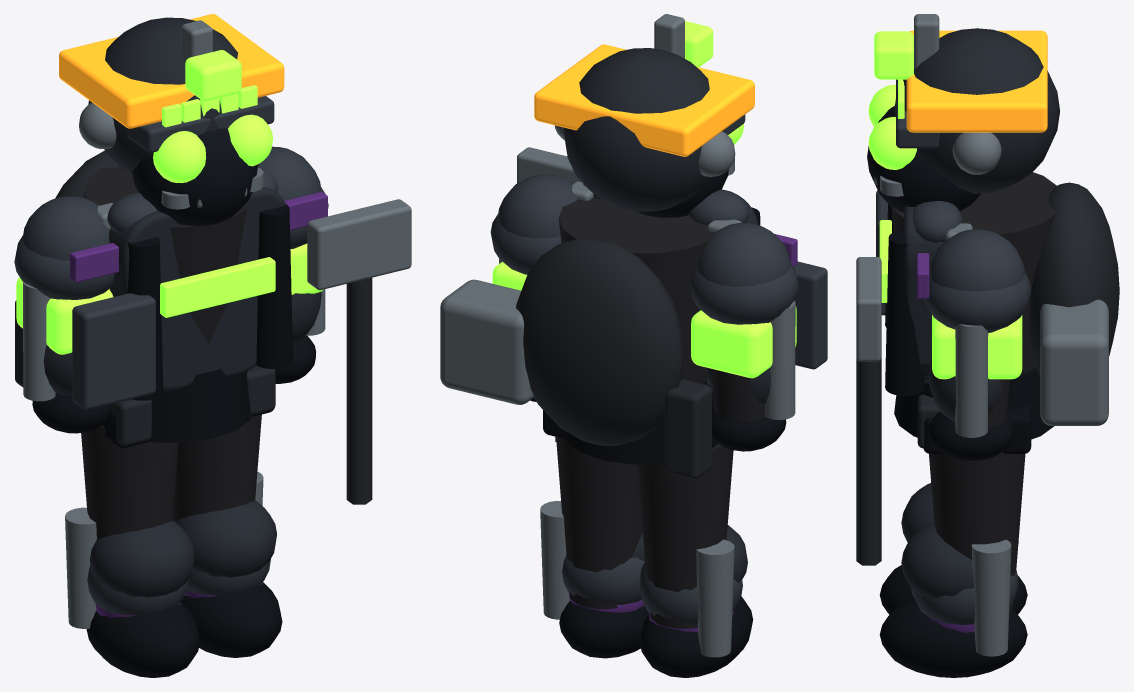
The model's file is engineer_l05.glb.
The picture shows the model from 3 angles, left to right: view 1: azimuth 30°, elevation 25°; view 2: azimuth 150°, elevation 25°; view 3: azimuth 270°, elevation 25°; orthographic projection. The views are drawn at different scales.
Visible parts, largest first — view 1: trouser (×2), shaped_knee_guard (×2), rounded_boot (×2), contoured_vest, welding_guard, safety_helmet_band, axe_head, vest_tether (×2), shoulder_joint (×2), rounded_helmet, enclosed_mask, axe_handle (+21 smaller); view 2: shaped_field_pack, trouser (×2), rounded_helmet, repair_canister, safety_helmet_band, body, shoulder_joint (×2), rounded_boot (×2), shin_frame (×2), shoulder_plate (×2), rank_stripe (×2), knee_plate (×2) (+14 smaller); view 3: rounded_helmet, shaped_field_pack, repair_canister, trouser, rounded_boot (×2), safety_helmet_band, body, axe_handle, shaped_knee_guard (×2), shoulder_joint, vest_tether, shin_frame (+23 smaller).
Part boxes in pixels (x1,y1,x2,y2): trouser (×2): (81, 414, 261, 538); shaped_knee_guard (×2): (89, 500, 276, 597); rounded_boot (×2): (86, 582, 282, 677); contoured_vest: (109, 187, 285, 390); welding_guard: (72, 293, 155, 409); safety_helmet_band: (59, 14, 284, 128); axe_head: (307, 199, 411, 290); vest_tether (×2): (127, 204, 292, 400); shoulder_joint (×2): (22, 146, 320, 260); rounded_helmet: (88, 17, 237, 174); enclosed_mask: (132, 128, 258, 226); axe_handle: (346, 277, 372, 504); shaped_field_pack: (516, 237, 684, 445); trouser (×2): (556, 437, 733, 628); rounded_helmet: (563, 48, 725, 211); repair_canister: (440, 279, 533, 404); safety_helmet_band: (534, 44, 754, 156); body: (558, 197, 714, 383); shoulder_joint (×2): (498, 174, 790, 287); rounded_boot (×2): (559, 596, 753, 677); shin_frame (×2): (540, 501, 734, 657); shoulder_plate (×2): (490, 214, 798, 324); rank_stripe (×2): (492, 261, 796, 378); knee_plate (×2): (562, 555, 742, 624); rounded_helmet: (894, 28, 1059, 193); shaped_field_pack: (1029, 182, 1119, 376); repair_canister: (1040, 299, 1108, 425); trouser: (929, 452, 1025, 614); rounded_boot (×2): (879, 565, 1027, 677); safety_helmet_band: (906, 30, 1047, 132); body: (891, 172, 1056, 373); axe_handle: (856, 357, 881, 565); shaped_knee_guard (×2): (901, 483, 973, 598); shoulder_joint: (929, 229, 1025, 291); vest_tether: (885, 230, 924, 395); shin_frame: (971, 539, 1011, 656).
Size of the model in its own units: 1.05 by 1.94 by 0.73.
